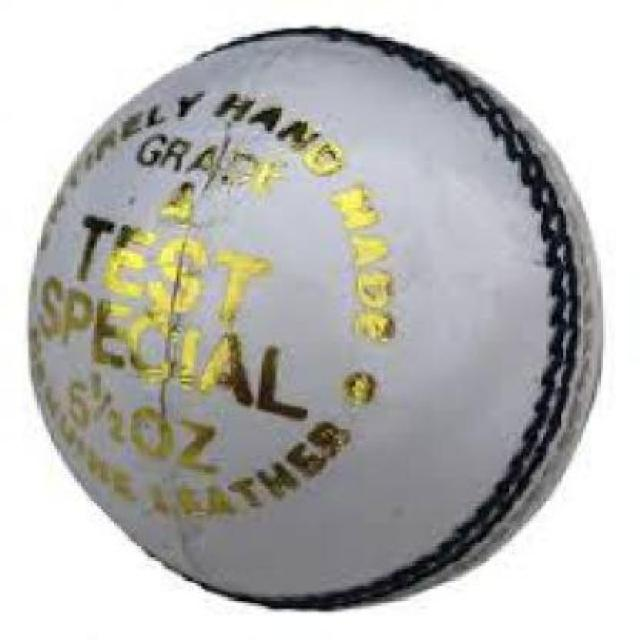Cricket ball: (20, 14, 612, 622)
